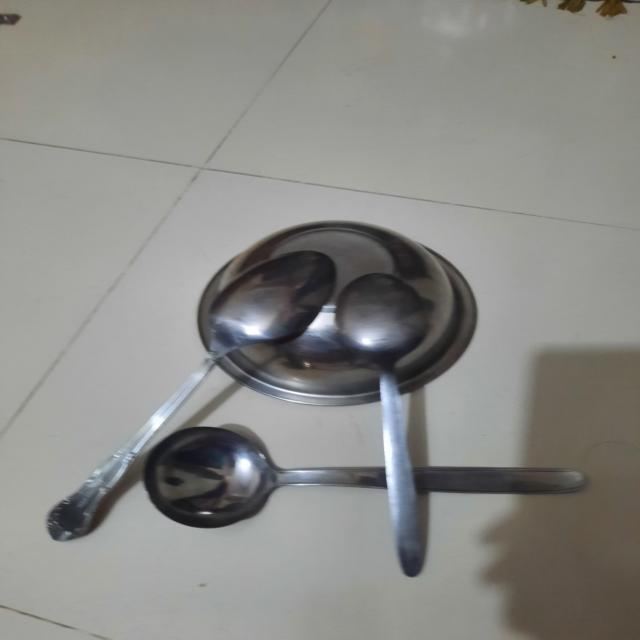Metal: (45, 208, 613, 572)
